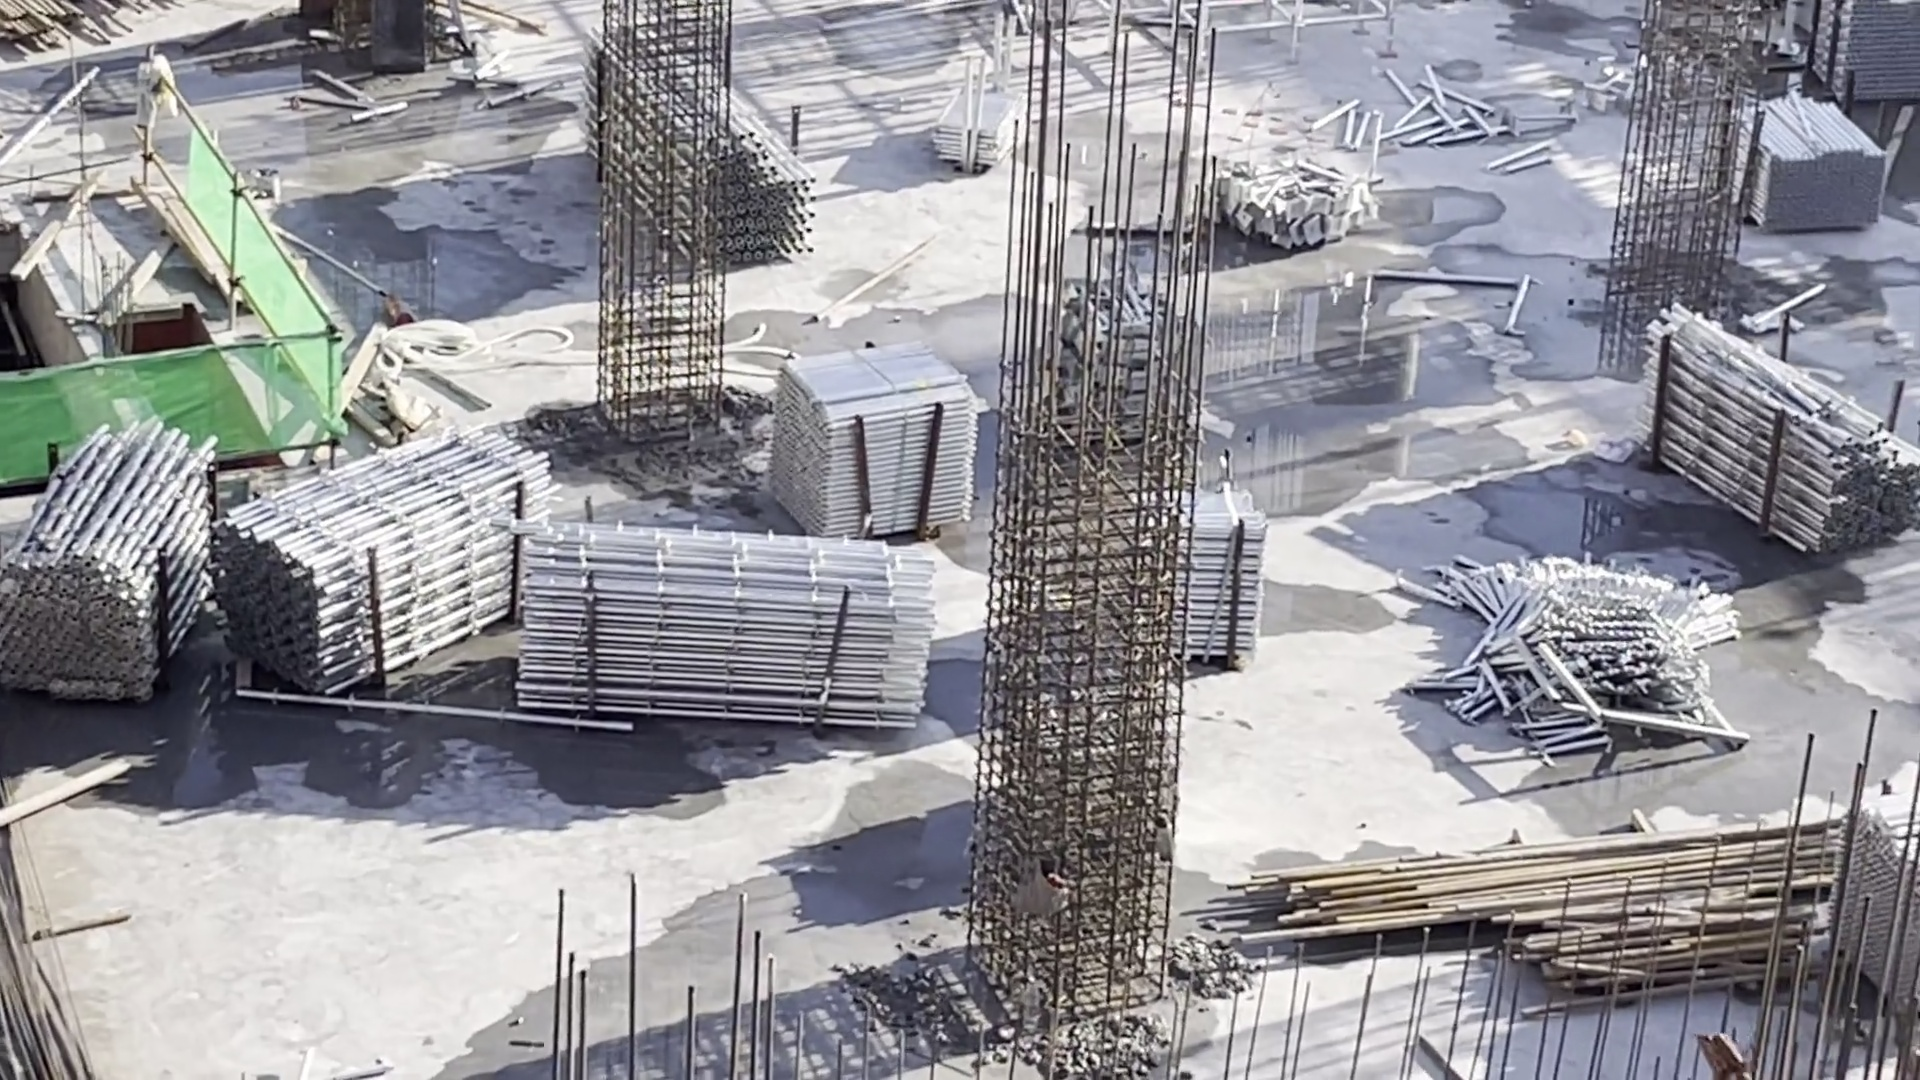rebar: (1, 880, 84, 1080)
scaffold: (524, 543, 926, 712), (231, 427, 498, 676), (1453, 559, 1753, 781), (1621, 332, 1887, 527), (21, 455, 216, 715), (599, 84, 804, 277), (786, 359, 977, 541), (1178, 535, 1304, 712), (1844, 811, 1920, 1004), (1745, 95, 1844, 228), (1812, 4, 1895, 98), (934, 87, 1013, 161)
